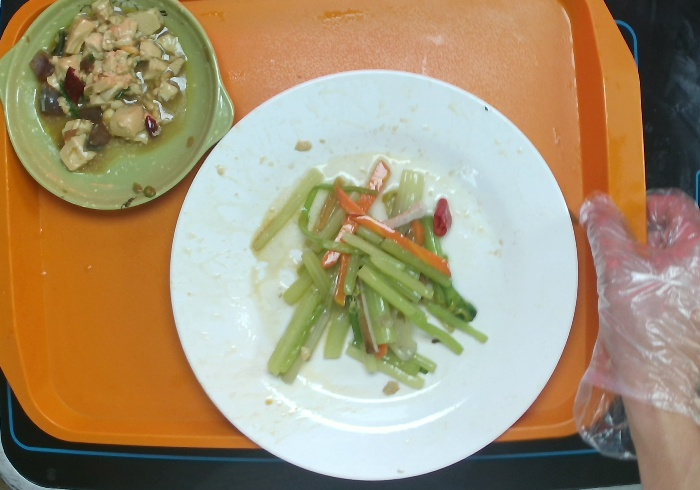NLDX-Da_Yuan_Pan: (166, 64, 582, 490)
NLDX-Lv_Hua_Shuang_Er_Die: (1, 1, 240, 216)
